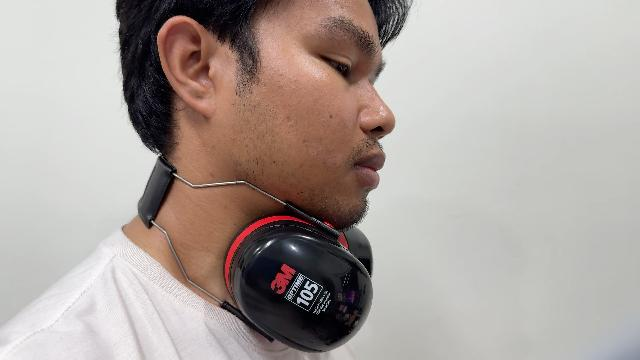headphones: (138, 156, 372, 351)
right_ear: (155, 15, 219, 122)
